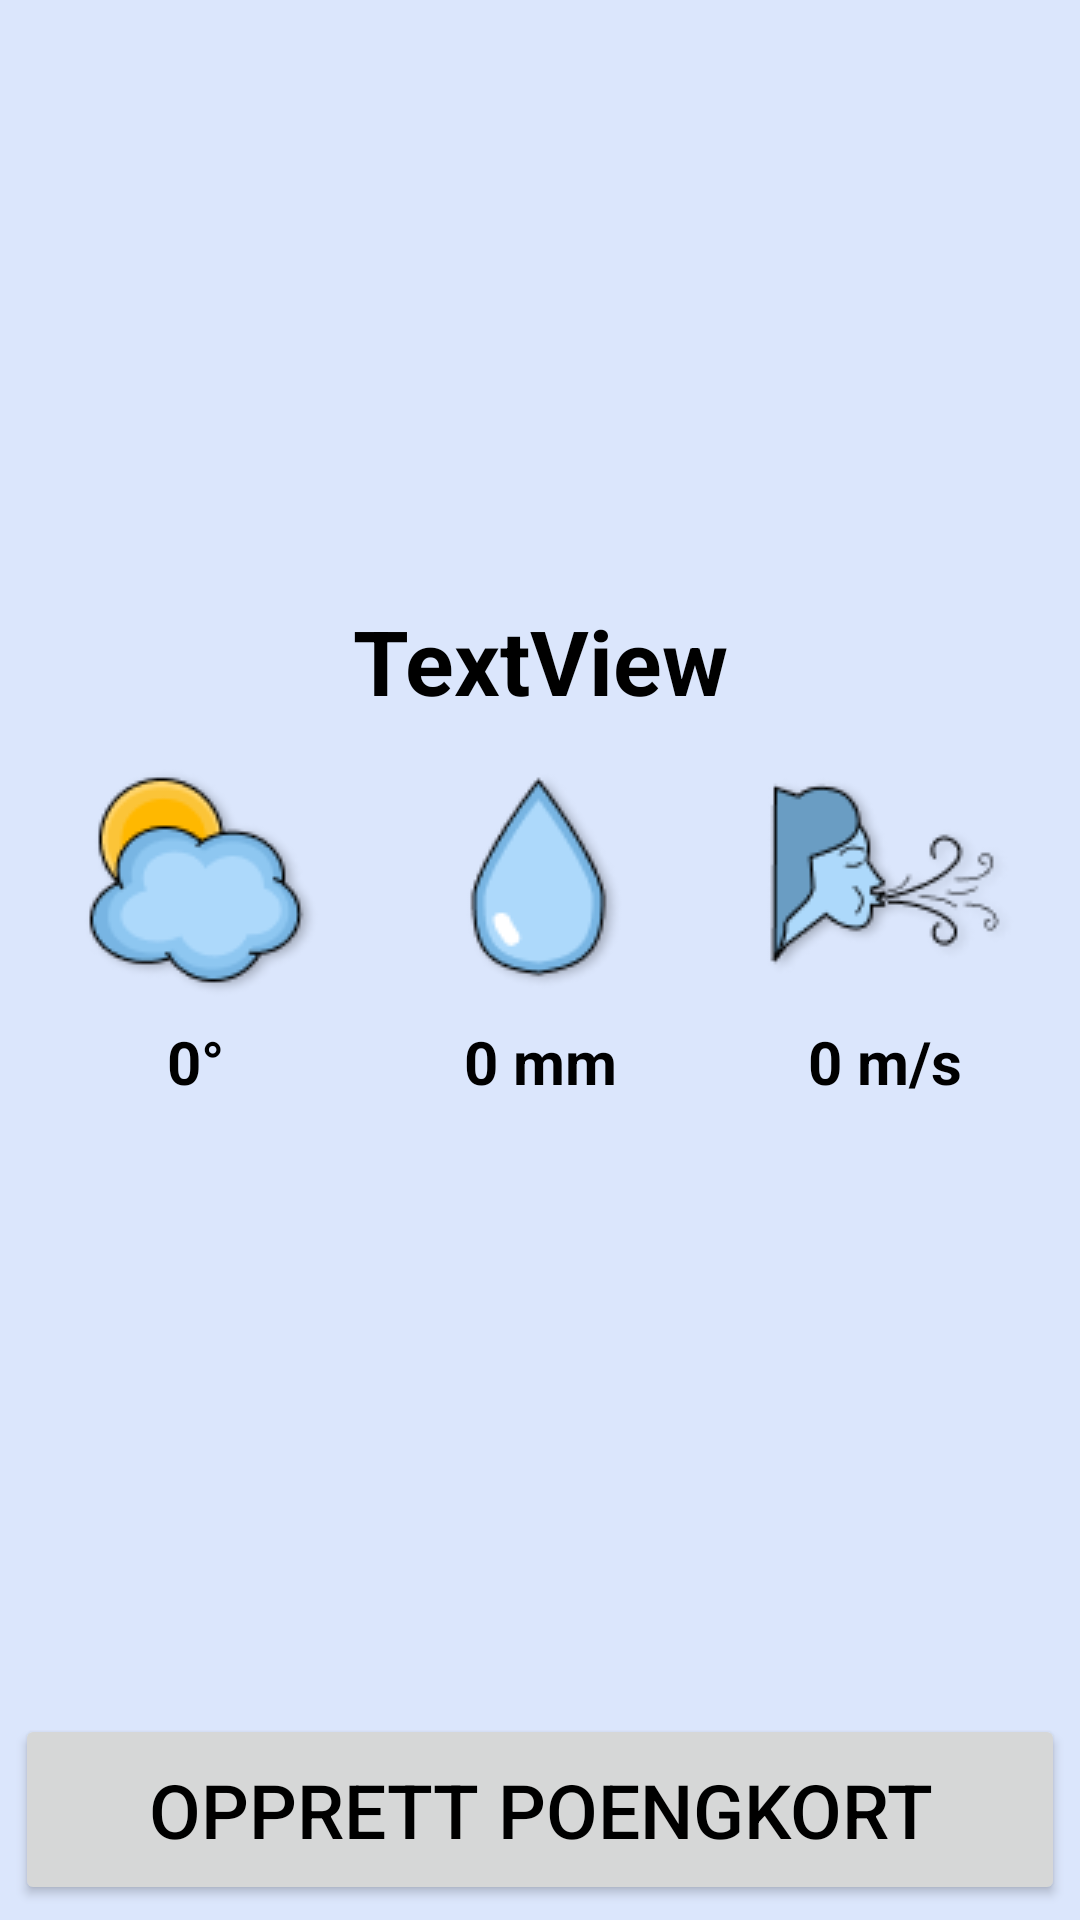

Screen size 1080 x 1920. Icon name, then its box in pixels as bbox(x1, y1, x2, y2):
fair day: bbox(89, 777, 308, 986)
raindrop: bbox(470, 777, 612, 978)
windman: bbox(770, 784, 1000, 964)
